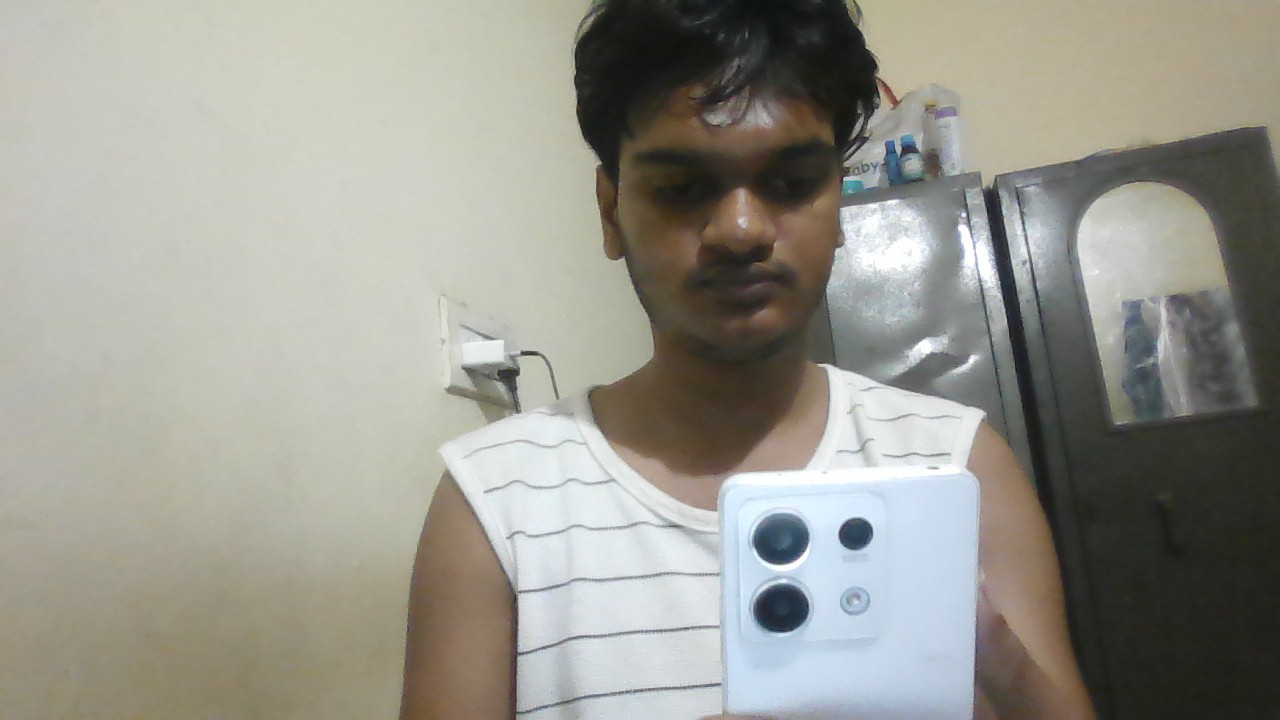phone: (720, 467, 979, 715)
